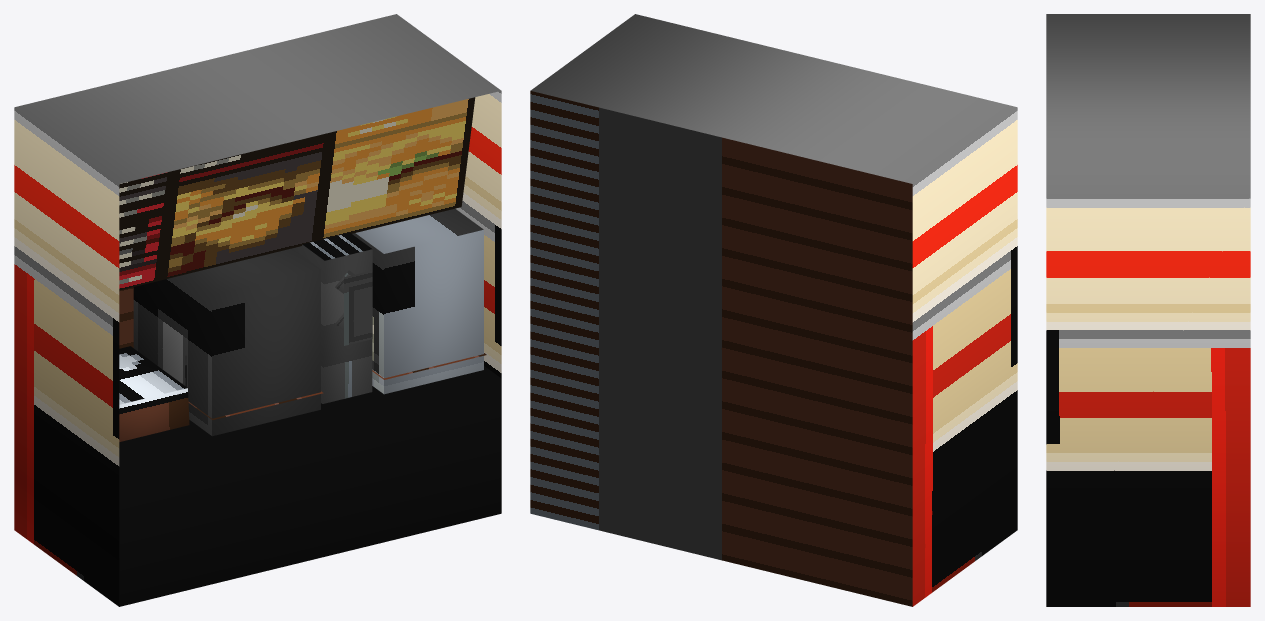
The picture shows the model from 3 angles, left to right: view 1: azimuth 30°, elevation 25°; view 2: azimuth 150°, elevation 25°; view 3: azimuth 270°, elevation 25°; orthographic projection. The views are drawn at different scales.
Visible parts, largest first — view 1: 3631kg_case_31; view 2: 3631kg_case_31; view 3: 3631kg_case_31.
Boxes of the visible parts, x1,y1,x2,y2 form: 3631kg_case_31: [14, 14, 501, 606]; 3631kg_case_31: [530, 14, 1017, 606]; 3631kg_case_31: [1046, 14, 1250, 606].
Bounding box in the file's own units: 2 × 2.11 × 0.9502.
4 materials, 4 textured.
